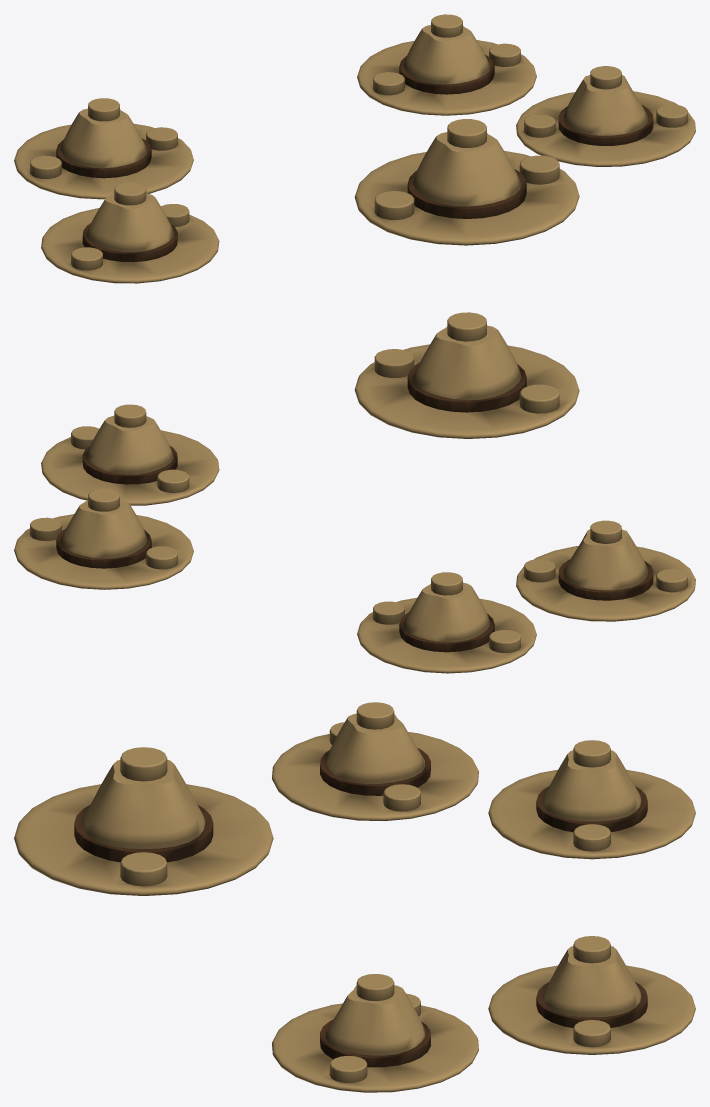
The model's file is steam-rangers-lod0.glb.
3 views of the same model, one above another, from view 1: azimuth 30°, elevation 25°; view 2: azimuth 150°, elevation 25°; view 3: azimuth 270°, elevation 25° (orthographic). The views are drawn at different scales.
Parts seen in each view (by area): view 1: cap_hat, att3_hat, att0_hat, att2_hat, att1_hat; view 2: cap_hat, att0_hat, att1_hat, att3_hat, att2_hat; view 3: cap_hat, att2_hat, att3_hat, att1_hat, att0_hat.
Part boxes in pixels (bbox=[...]): cap_hat: bbox=[354, 119, 579, 245]; att3_hat: bbox=[41, 182, 219, 283]; att0_hat: bbox=[357, 14, 536, 115]; att2_hat: bbox=[516, 66, 695, 166]; att1_hat: bbox=[14, 98, 193, 199]; cap_hat: bbox=[354, 312, 579, 438]; att0_hat: bbox=[14, 488, 193, 589]; att1_hat: bbox=[357, 572, 536, 673]; att3_hat: bbox=[516, 520, 695, 621]; att2_hat: bbox=[41, 404, 219, 505]; cap_hat: bbox=[14, 747, 273, 895]; att2_hat: bbox=[272, 974, 478, 1092]; att3_hat: bbox=[272, 702, 478, 820]; att1_hat: bbox=[488, 740, 695, 859]; att0_hat: bbox=[488, 936, 695, 1054].
Size of the model in its own units: 2.28 by 0.4645 by 1.83.
